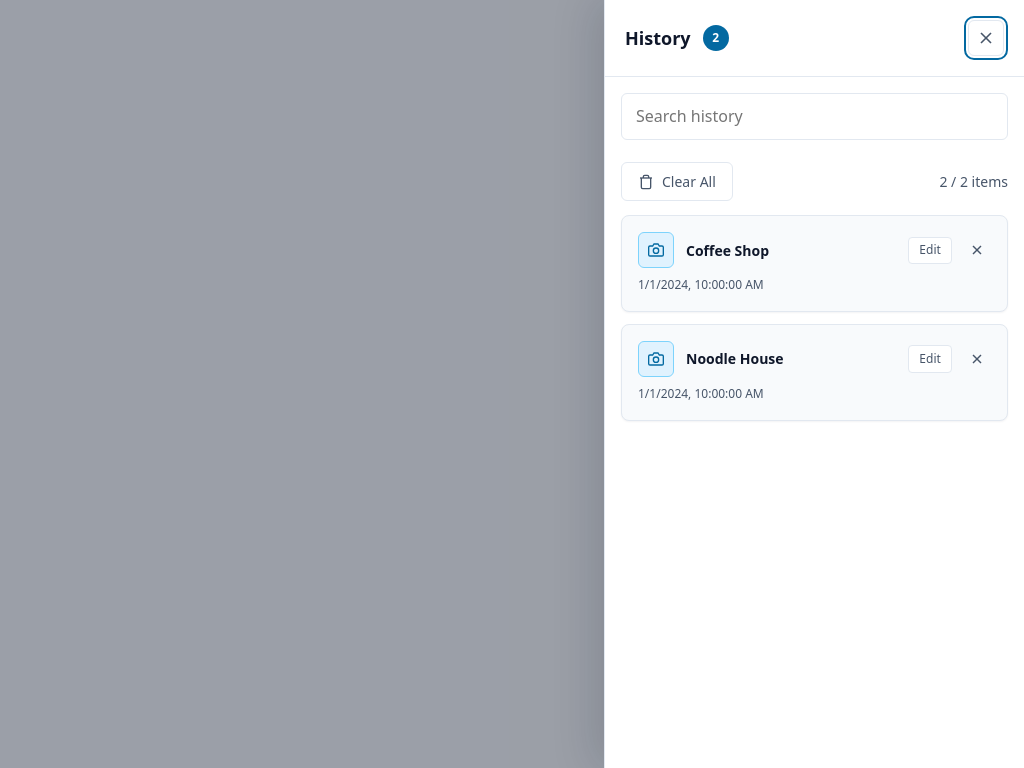
Scenario: History Component › filters history items by search term
Type "Noodle" into the search field with placeholder "Search history" at (814, 116), box [621,93,1008,140]
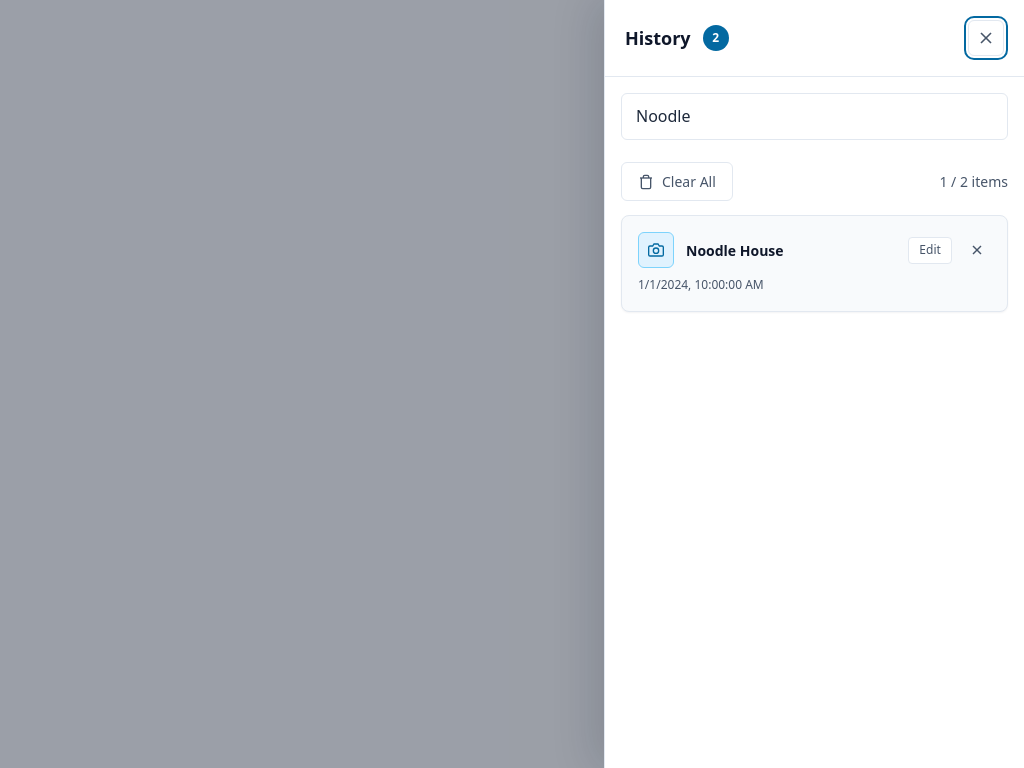
expect the button "Noodle House" is shown: met, box [686,240,784,261]
expect the button "Coffee Shop" is gone: met
